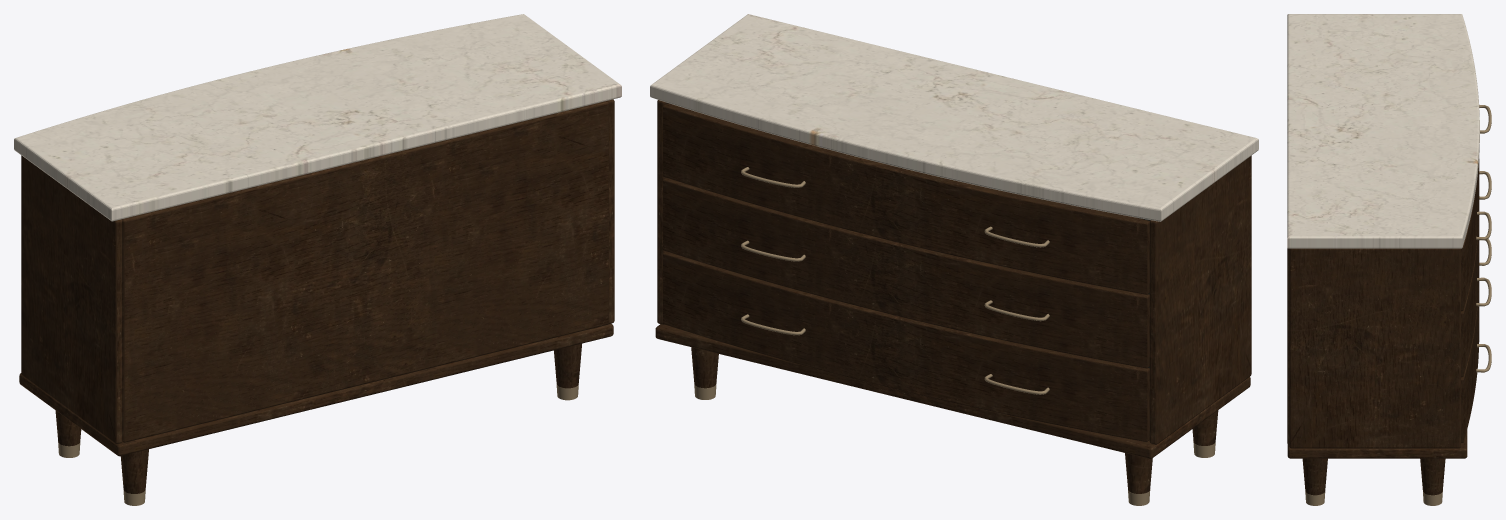
File: atelier-bow-dresser.glb
3 views of the same model, side by side, from view 1: azimuth 30°, elevation 25°; view 2: azimuth 150°, elevation 25°; view 3: azimuth 270°, elevation 25° (orthographic). The views are drawn at different scales.
Parts seen in each view (by area): view 1: walnut_surfaces, stone_surfaces, bronze_surfaces; view 2: walnut_surfaces, stone_surfaces, bronze_surfaces; view 3: stone_surfaces, walnut_surfaces, bronze_surfaces.
Boxes of the visible parts, left/top/right/bottom form: walnut_surfaces: left=19, top=99, right=614, bottom=493; stone_surfaces: left=14, top=14, right=621, bottom=221; bronze_surfaces: left=58, top=384, right=578, bottom=505; walnut_surfaces: left=655, top=100, right=1251, bottom=493; stone_surfaces: left=650, top=14, right=1258, bottom=221; bronze_surfaces: left=694, top=167, right=1215, bottom=505; stone_surfaces: left=1287, top=14, right=1479, bottom=248; walnut_surfaces: left=1287, top=159, right=1479, bottom=495; bronze_surfaces: left=1305, top=105, right=1491, bottom=505.
Size of the model in its own units: 1.53 by 0.8991 by 0.5912.
Materials: 4 (2 with a texture image).
